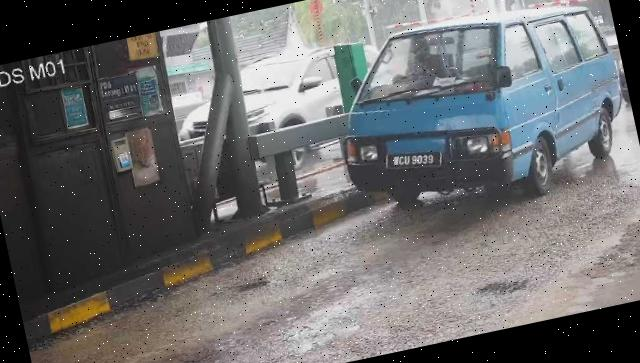License_Plate: (383, 142, 446, 181)
van: (321, 1, 640, 234)
